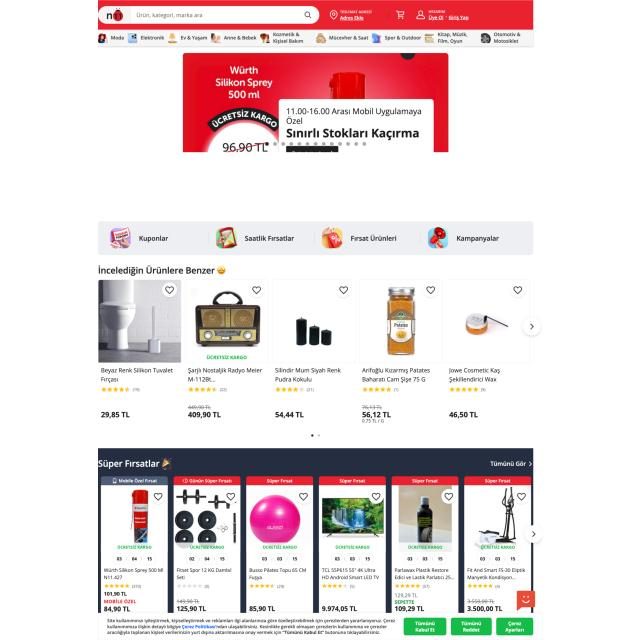input: (129, 5, 322, 24)
logo: (105, 7, 125, 22)
navigation: (97, 30, 533, 47)
